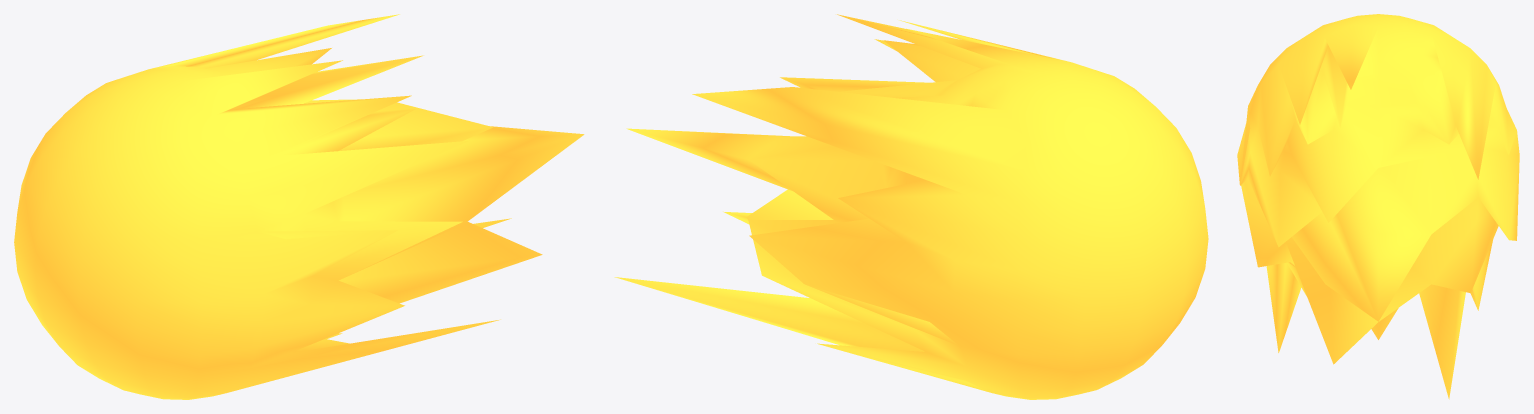
The model's file is Tiro.fbx.
3 views of the same model, side by side, from view 1: azimuth 30°, elevation 25°; view 2: azimuth 150°, elevation 25°; view 3: azimuth 270°, elevation 25° (orthographic). The views are drawn at different scales.
Parts seen in each view (by area): view 1: Sphere; view 2: Sphere; view 3: Sphere.
Part boxes in pixels (box(x1,y1,x2,y2)): Sphere: box(14, 14, 584, 399); Sphere: box(614, 14, 1208, 399); Sphere: box(1237, 14, 1519, 399).
Bounding box in the file's own units: 379 × 200 × 200.
